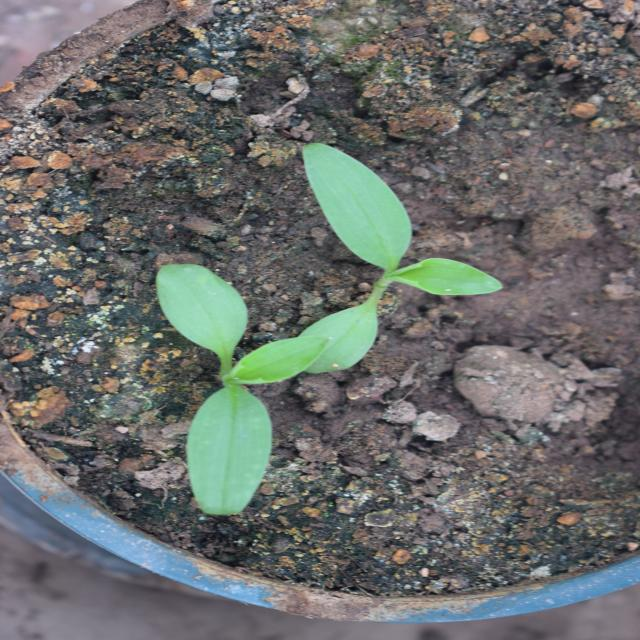Common Dayflower: (146, 143, 374, 362), (261, 327, 505, 498)
